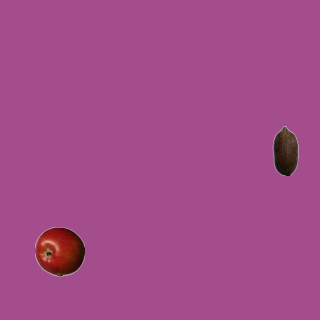Apple Braeburn: (34, 226, 84, 276)
Nut Pecan: (260, 125, 310, 175)
